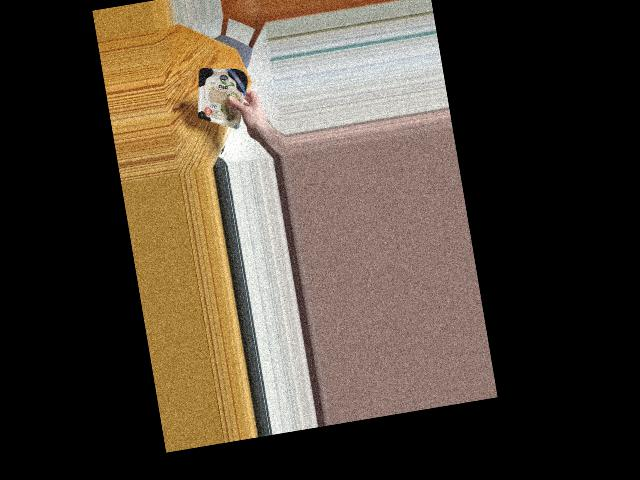cheese: (192, 63, 251, 124)
